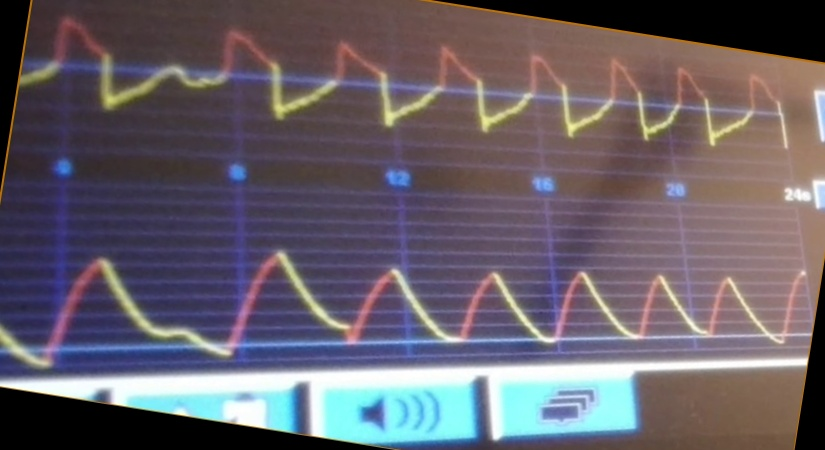Ineffective_effort Flow: (30, 15, 790, 150)
Ineffective_effort Volume: (1, 241, 808, 368)
